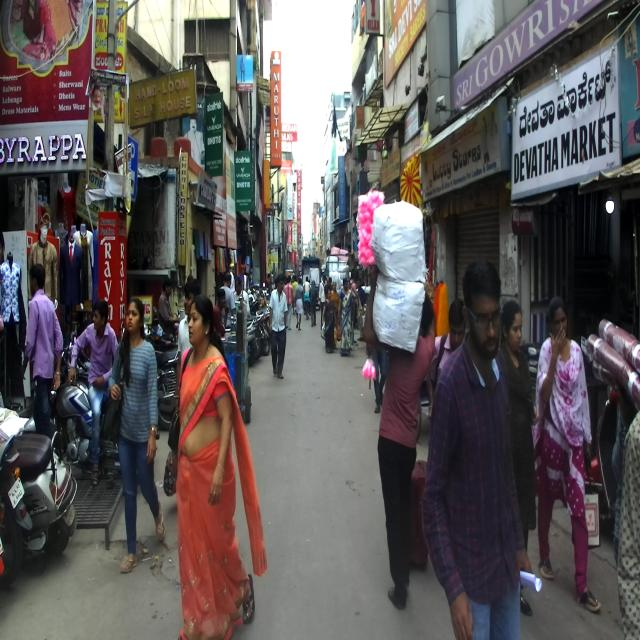motorcycle ahead at: (17, 427, 77, 552)
person ahead at: (432, 269, 542, 640), (166, 297, 263, 640), (110, 297, 166, 589)
